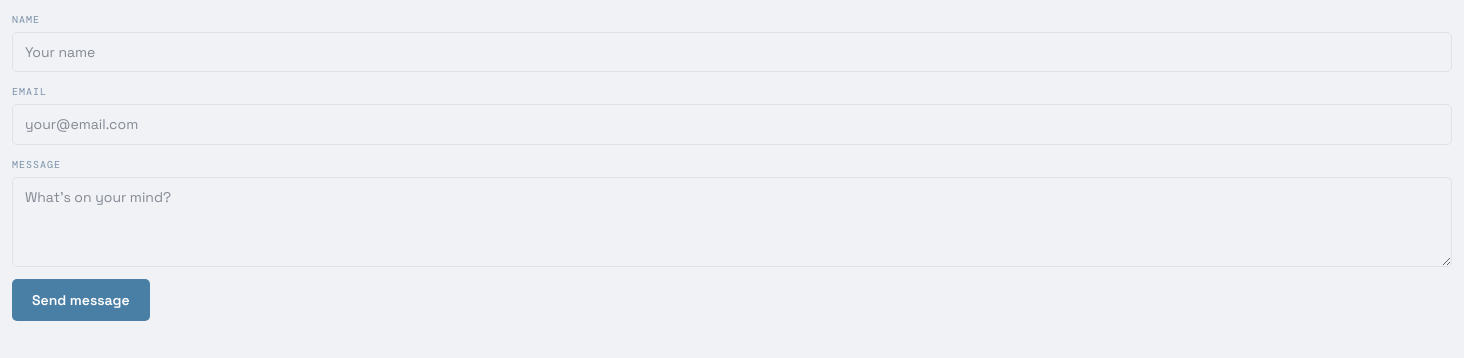
Test: ContactForm › name validation › clears the error as soon as the field is changed
The width and height of the screenshot is (1464, 358).
Click the field labelled "Name". click: (732, 52)
box: [12,32,1452,72]
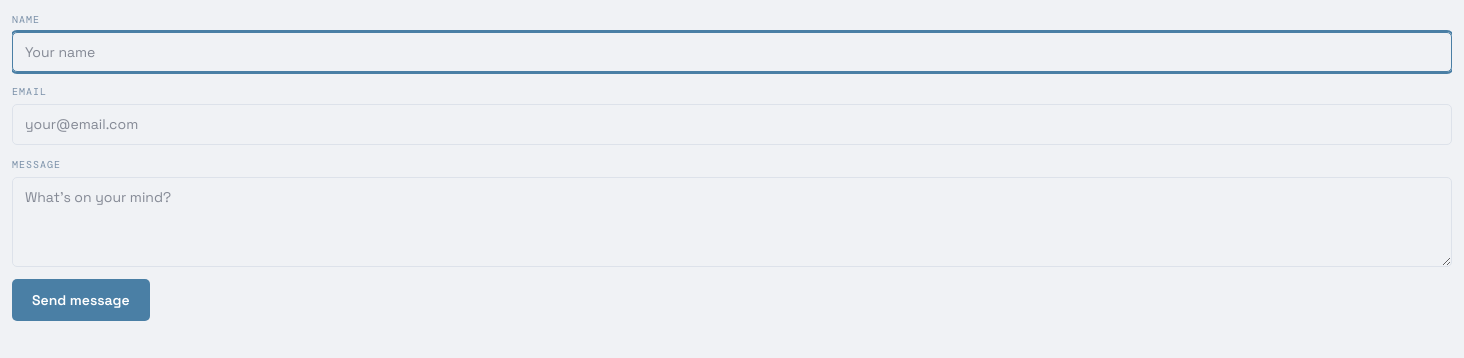
Press Tab
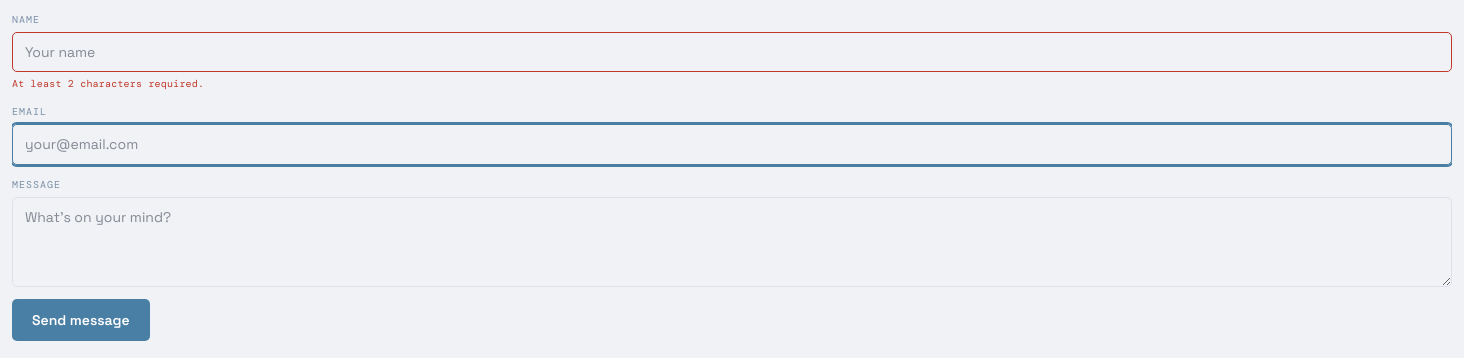
Now the text "At least 2 characters required." is shown, box [12,77,204,90]
Type "A" into the field labelled "Name". click: (732, 52)
box: [12,32,1452,72]
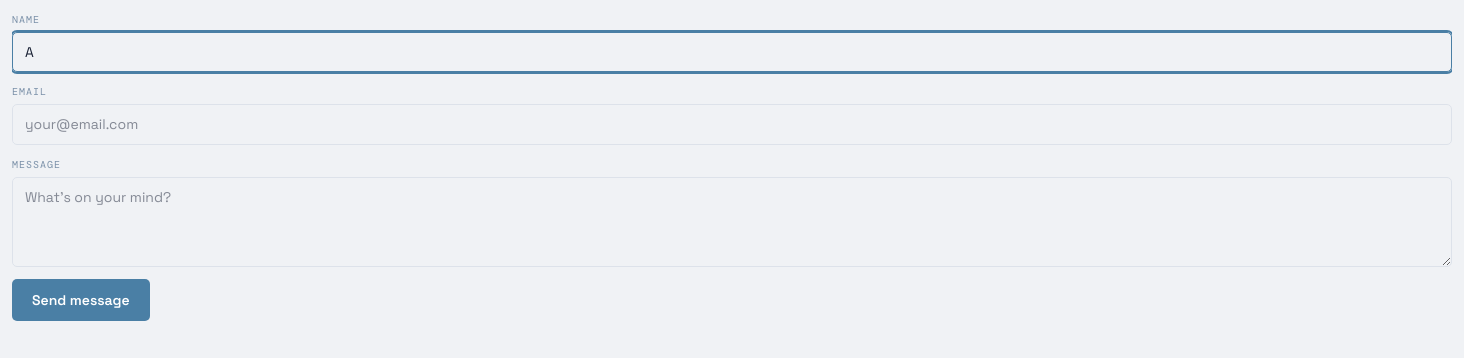
Now the text "At least 2 characters required." is gone
